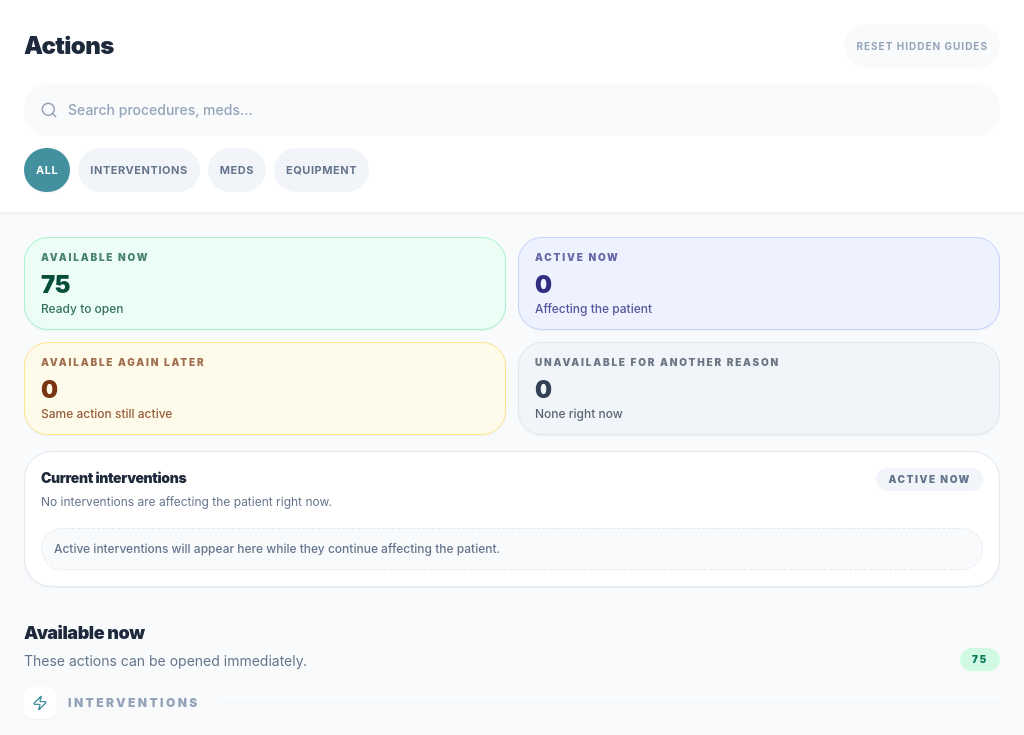
Test: ActionsScreen › shows "No actions found" message when search has no results
This screenshot has width=1024, height=735.
Type "xyznonexistent12345" into the field with placeholder "Search procedures, meds...".
click(512, 110); type("xyznonexistent12345")  # box [24,84,1000,136]
(page scrolled)
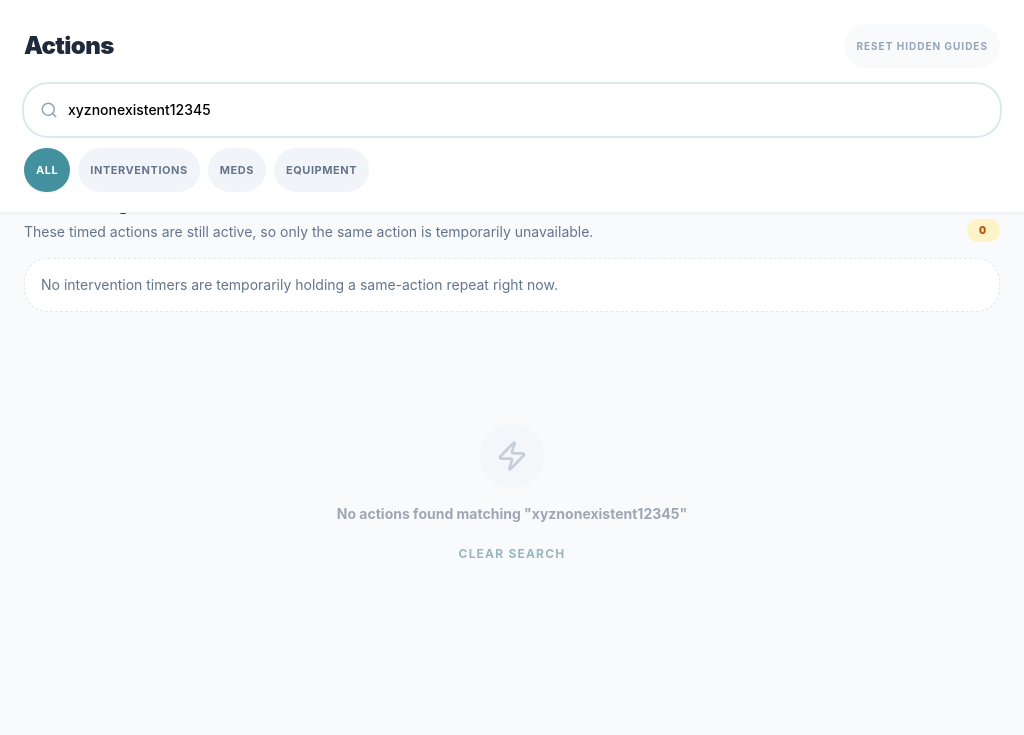
Check: the text "No actions found matching \"xyznonexistent12345\"" is shown, box [337,504,687,524]
